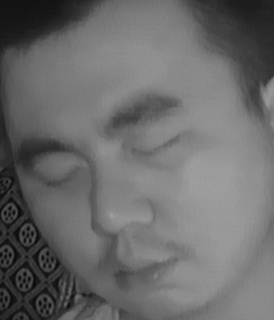blink: (131, 127, 190, 164), (36, 160, 85, 193)
mouth: (98, 242, 177, 297)
